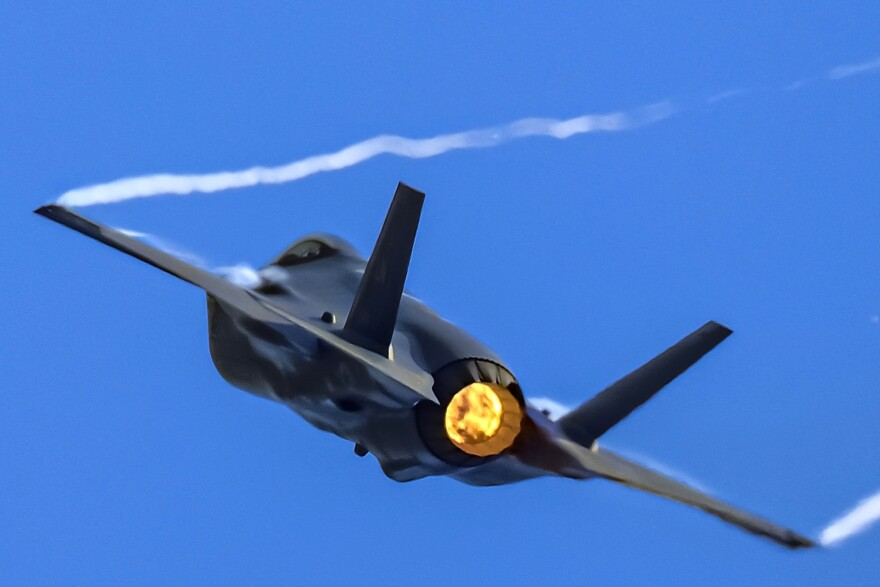F35: (25, 174, 828, 555)
